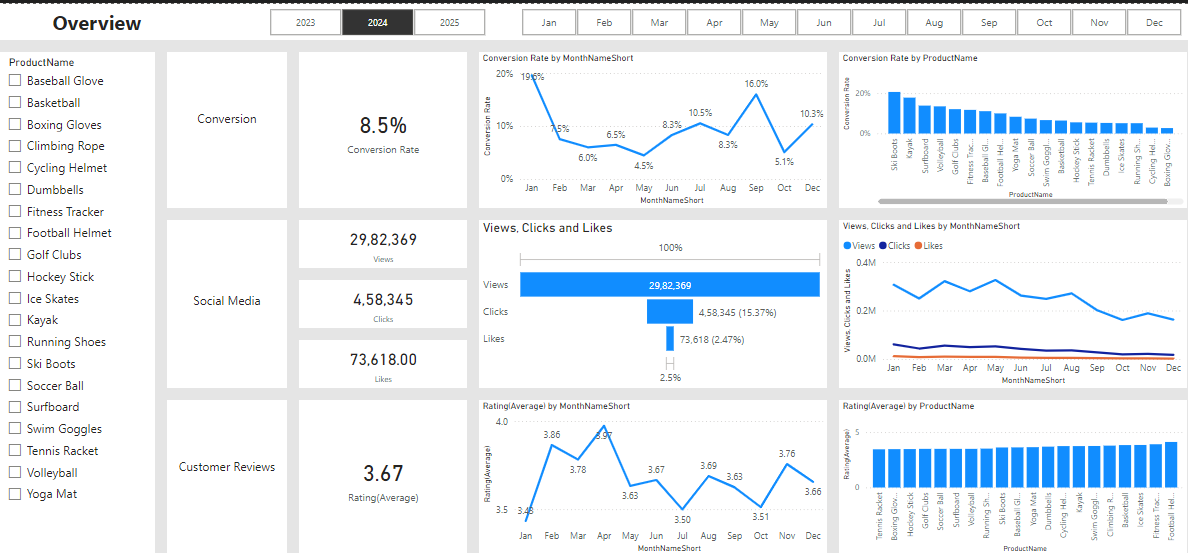

The dashboard page shown, as its layout file describes it:
{"tool":"powerbi","page":{"name":"Overview","canvas":[1600,750],"ordinal":0},"visuals":[{"type":"textbox","box":[0,0,1632,48],"z":0},{"type":"slicer","fields":{"Values":["dim_products.ProductName"]},"box":[0,64,208,672],"z":1000},{"type":"textbox","box":[224,64,160,208],"z":2000},{"type":"textbox","box":[224,288,160,224],"z":3000},{"type":"textbox","box":[224,528,160,208],"z":4000},{"type":"card","fields":{"Values":["Calculations.Conversion Rate"]},"box":[400,64,224,208],"z":5000},{"type":"card","fields":{"Values":["Calculations.Views"]},"box":[400,288,224,64],"z":6000},{"type":"card","fields":{"Values":["Calculations.Clicks"]},"box":[400,368,224,64],"z":7000},{"type":"card","fields":{"Values":["Calculations.Likes"]},"box":[400,448,224,64],"z":8000},{"type":"card","fields":{"Values":["Calculations.Rating(Average)"]},"box":[400,528,224,208],"z":9000},{"type":"slicer","fields":{"Values":["Calendar.Year"]},"box":[336,0,336,48],"z":10000},{"type":"slicer","fields":{"Values":["Calendar.MonthNameShort"]},"box":[672,0,928,48],"z":11000},{"type":"lineChart","fields":{"Y":["Calculations.Conversion Rate"],"Category":["Calendar.MonthNameShort"]},"box":[640,64,464,208],"z":12000},{"type":"columnChart","fields":{"Y":["Calculations.Conversion Rate"],"Category":["dim_products.ProductName"]},"box":[1120,64,464,208],"z":13000},{"type":"lineChart","fields":{"Category":["Calendar.MonthNameShort"],"Y":["Calculations.Views","Calculations.Clicks","Calculations.Likes"]},"box":[1120,288,464,224],"z":14000},{"type":"funnel","fields":{"Y":["Calculations.Views","Calculations.Clicks","Calculations.Likes"]},"box":[640,288,464,224],"z":15000},{"type":"lineChart","fields":{"Y":["Calculations.Rating(Average)"],"Category":["Calendar.MonthNameShort"]},"box":[640,528,464,208],"z":16000},{"type":"columnChart","fields":{"Category":["dim_products.ProductName"],"Y":["Calculations.Rating(Average)"]},"box":[1120,528,464,208],"z":17000}]}

Visuals, with their boxes in screenshot pixels (x1, y1, x2, y2), scaled from the page's 1600x750 canvas onto the 1188x553 screenshot:
textbox: region(0, 0, 1187, 35)
slicer - dim_products.ProductName: region(0, 47, 154, 543)
textbox: region(166, 47, 285, 201)
textbox: region(166, 212, 285, 378)
textbox: region(166, 389, 285, 543)
card - Calculations.Conversion Rate: region(297, 47, 463, 201)
card - Calculations.Views: region(297, 212, 463, 260)
card - Calculations.Clicks: region(297, 271, 463, 319)
card - Calculations.Likes: region(297, 330, 463, 378)
card - Calculations.Rating(Average): region(297, 389, 463, 543)
slicer - Calendar.Year: region(249, 0, 499, 35)
slicer - Calendar.MonthNameShort: region(499, 0, 1187, 35)
lineChart - Calculations.Conversion Rate x Calendar.MonthNameShort: region(475, 47, 820, 201)
columnChart - Calculations.Conversion Rate x dim_products.ProductName: region(832, 47, 1176, 201)
lineChart - Calendar.MonthNameShort x Calculations.Views: region(832, 212, 1176, 378)
funnel - Calculations.Views x Calculations.Clicks: region(475, 212, 820, 378)
lineChart - Calculations.Rating(Average) x Calendar.MonthNameShort: region(475, 389, 820, 543)
columnChart - dim_products.ProductName x Calculations.Rating(Average): region(832, 389, 1176, 543)
